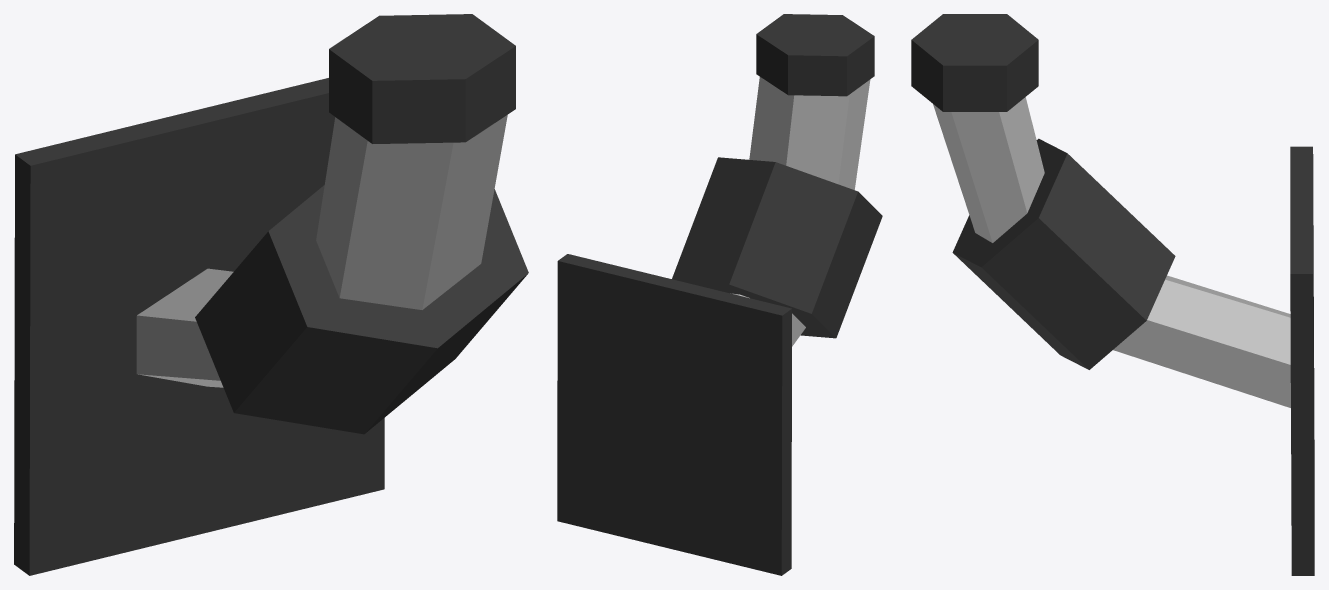
Rendered from Camera_Wall_Base.fbx.
3 renders of one model, left to right at view 1: azimuth 30°, elevation 25°; view 2: azimuth 150°, elevation 25°; view 3: azimuth 270°, elevation 25°, orthographic. The views are drawn at different scales.
Parts seen in each view (by area): view 1: polySurface33; view 2: polySurface33; view 3: polySurface33.
Part boxes in pixels (bbox=[...]): polySurface33: bbox=[14, 14, 528, 575]; polySurface33: bbox=[557, 14, 882, 575]; polySurface33: bbox=[911, 14, 1314, 575].
Size of the model in its own units: 69.23 by 120 by 92.61.
1 material, 1 textured.
